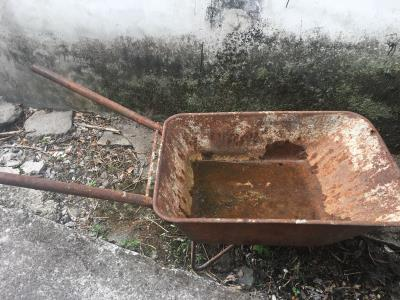bowl: (148, 108, 398, 257)
